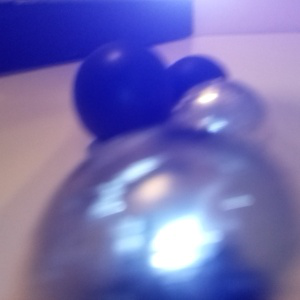alive_ball: (29, 127, 300, 300), (169, 78, 269, 175)
dead_ball: (72, 40, 172, 143), (162, 55, 229, 126)
